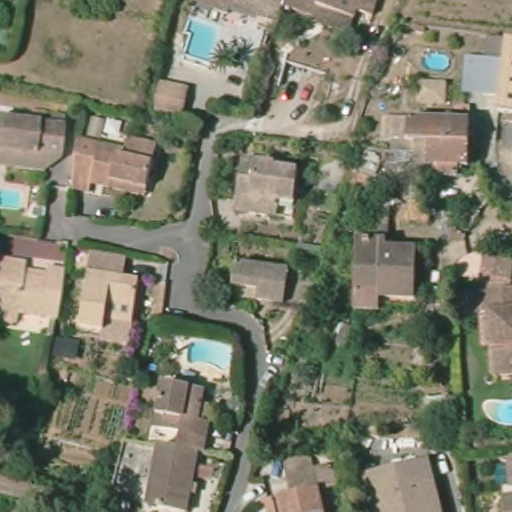pool: (173, 14, 229, 71), (177, 335, 238, 382), (480, 393, 512, 429), (418, 48, 456, 73), (1, 184, 32, 213)
